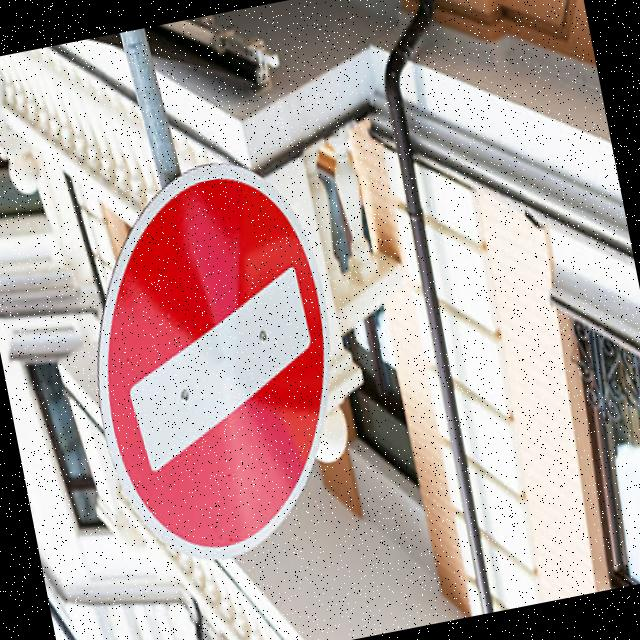do_not_enter: (52, 136, 383, 589)
